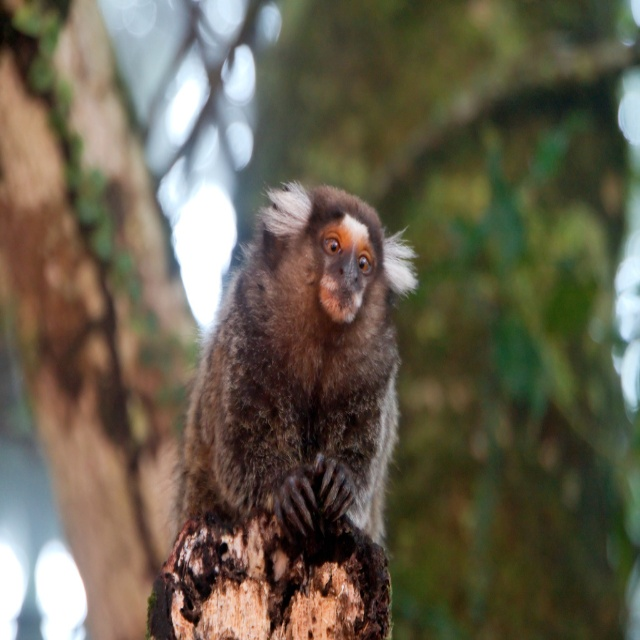Monkey: (157, 187, 404, 640)
